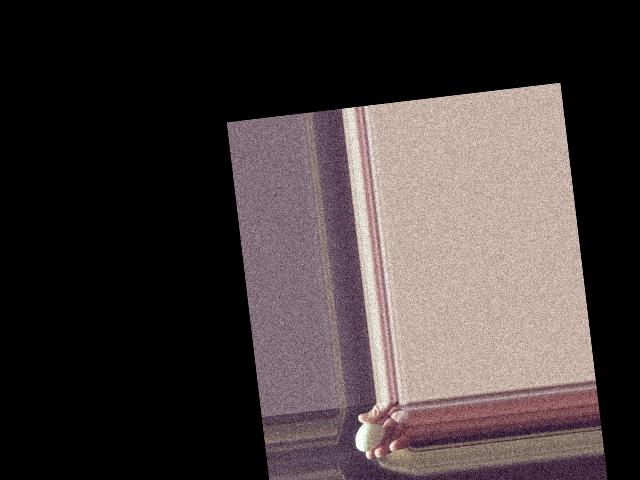egg: (353, 420, 386, 451)
